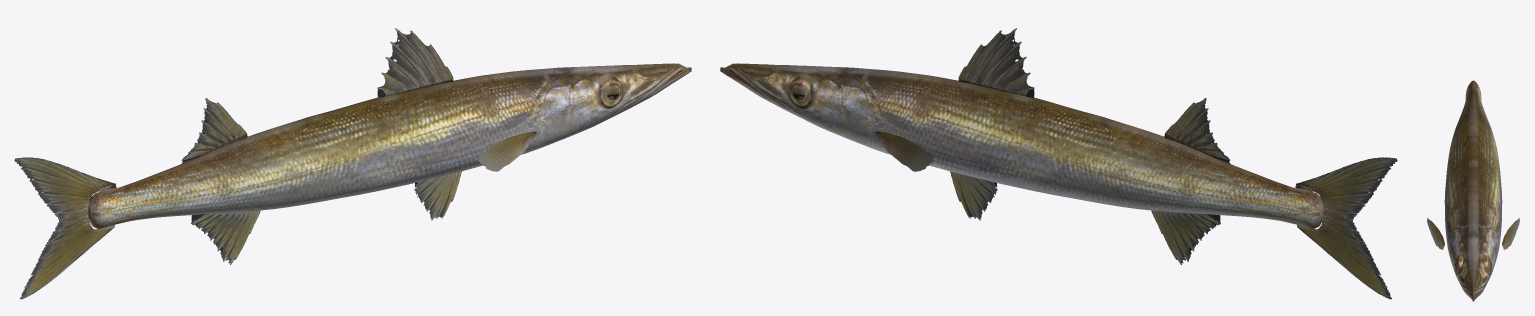
Rendered from barracuda.glb.
The picture shows the model from 3 angles, left to right: view 1: azimuth 30°, elevation 25°; view 2: azimuth 150°, elevation 25°; view 3: azimuth 270°, elevation 25°; orthographic projection. The views are drawn at different scales.
Size of the model in its own units: 1 by 0.2855 by 0.1707.
Materials: 1 (1 with a texture image).
